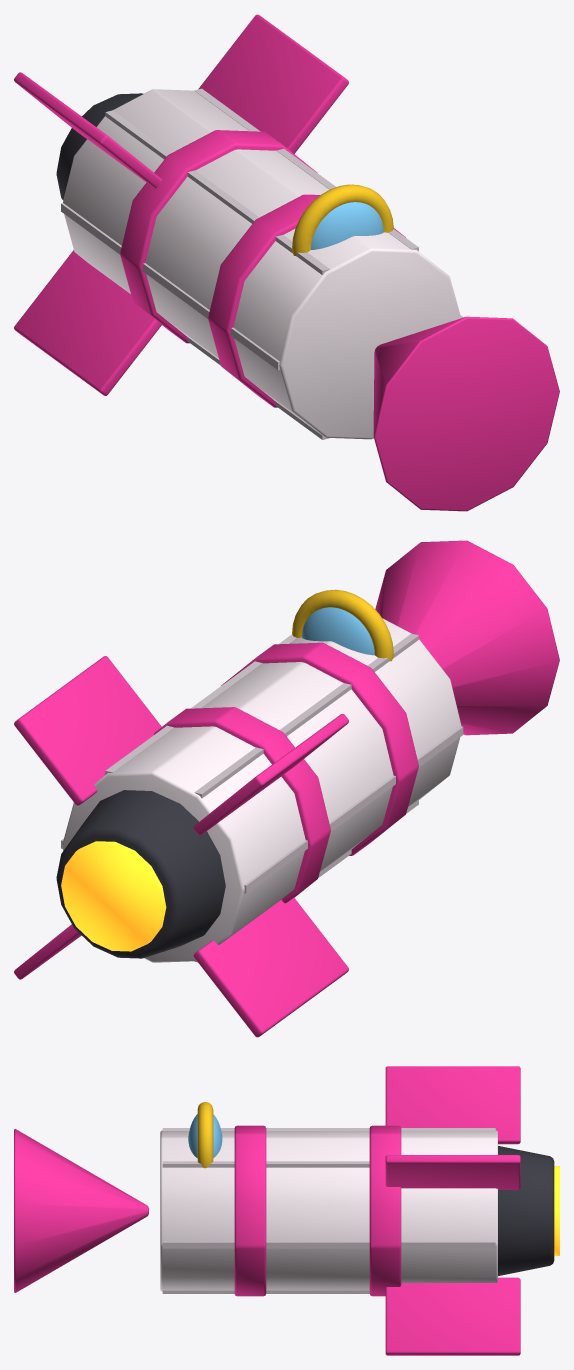
File: roket.glb
3 views of the same model, one above another, from view 1: azimuth 30°, elevation 25°; view 2: azimuth 150°, elevation 25°; view 3: azimuth 270°, elevation 25° (orthographic). The views are drawn at different scales.
Visible parts, largest first — view 1: Cylinder, Cone, Cube.008, Cube.006, Cylinder.002, Cylinder.001, Cube.007, Torus, Sphere, Cube.002, Cube.003, Cone.001 (+1 smaller); view 2: Cylinder, Cone, Cone.001, Cube.008, Cube.006, Cylinder.003, Cylinder.001, Cylinder.002, Cube.007, Torus, Sphere, Cube.002 (+3 smaller); view 3: Cylinder, Cone, Cube.009, Cube.007, Cone.001, Cylinder.001, Cylinder.002, Cube.006, Cube, Cube.001, Torus, Cube.002 (+3 smaller).
Part boxes in pixels (left/top/right/bottom): Cylinder: left=63, top=89, right=460, bottom=439; Cone: left=373, top=316, right=559, bottom=511; Cube.008: left=14, top=250, right=161, bottom=395; Cube.006: left=198, top=14, right=348, bottom=153; Cylinder.002: left=120, top=130, right=317, bottom=343; Cylinder.001: left=208, top=194, right=405, bottom=407; Cube.007: left=14, top=72, right=161, bottom=188; Torus: left=292, top=184, right=393, bottom=255; Sphere: left=311, top=202, right=383, bottom=249; Cube.002: left=105, top=110, right=329, bottom=274; Cube.003: left=61, top=203, right=280, bottom=370; Cone.001: left=56, top=93, right=143, bottom=200; Cylinder: left=62, top=618, right=461, bottom=962; Cone: left=375, top=540, right=559, bottom=735; Cone.001: left=56, top=790, right=225, bottom=958; Cube.008: left=193, top=898, right=348, bottom=1037; Cube.006: left=14, top=656, right=161, bottom=805; Cylinder.003: left=61, top=841, right=166, bottom=951; Cylinder.001: left=221, top=642, right=418, bottom=855; Cylinder.002: left=154, top=707, right=330, bottom=903; Cube.007: left=193, top=714, right=348, bottom=835; Torus: left=292, top=589, right=393, bottom=661; Sphere: left=302, top=607, right=374, bottom=655; Cube.002: left=194, top=633, right=418, bottom=798; Cylinder: left=160, top=1130, right=497, bottom=1291; Cone: left=14, top=1129, right=148, bottom=1292; Cube.009: left=385, top=1277, right=520, bottom=1355; Cube.007: left=385, top=1066, right=520, bottom=1144; Cone.001: left=498, top=1146, right=554, bottom=1275; Cylinder.001: left=234, top=1125, right=266, bottom=1296; Cylinder.002: left=369, top=1125, right=401, bottom=1296; Cube.006: left=385, top=1155, right=520, bottom=1189; Cube: left=162, top=1241, right=495, bottom=1248; Cube.001: left=162, top=1161, right=369, bottom=1167; Torus: left=197, top=1102, right=213, bottom=1168; Cube.002: left=162, top=1128, right=495, bottom=1130.
Size of the model in its own units: 0.981 by 1.01 by 2.43.
